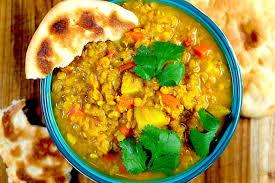Dhal Curry: (76, 36, 226, 162)
